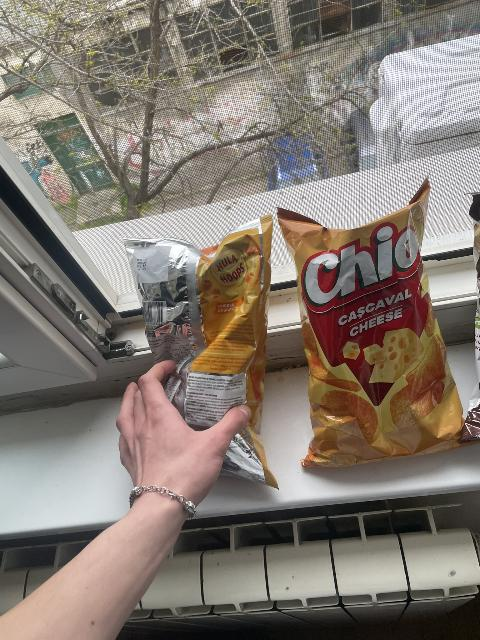Chio Cascaval 125g: (271, 178, 474, 472)
Chio Hula Hoops Cheese 70g: (125, 221, 279, 489)
